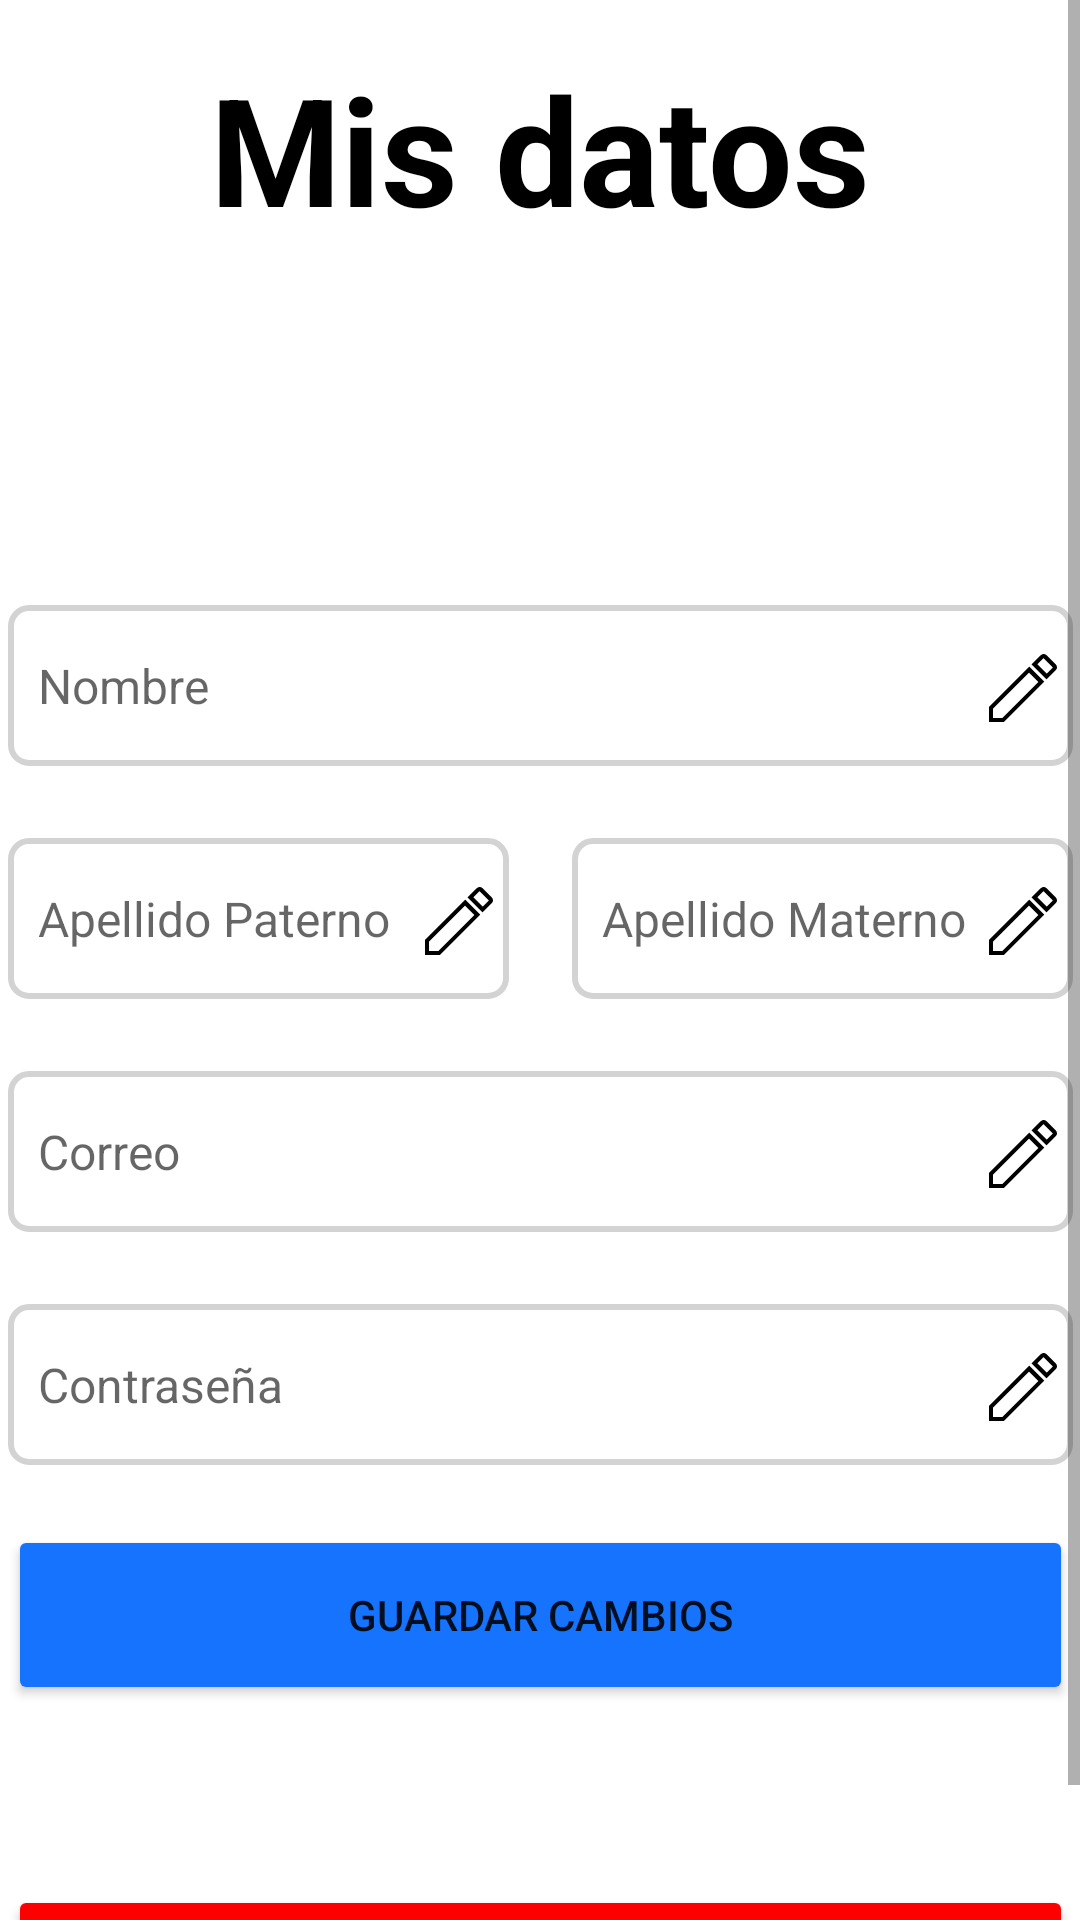

Icons on this 1080×1920 Android screen, each with its box as {"x1": x1, "y1": y1, "x2": x2, "y2": y2}:
pencil: {"x1": 989, "y1": 654, "x2": 1057, "y2": 722}, {"x1": 425, "y1": 887, "x2": 493, "y2": 955}, {"x1": 989, "y1": 887, "x2": 1057, "y2": 955}, {"x1": 989, "y1": 1120, "x2": 1057, "y2": 1188}, {"x1": 989, "y1": 1353, "x2": 1057, "y2": 1421}
